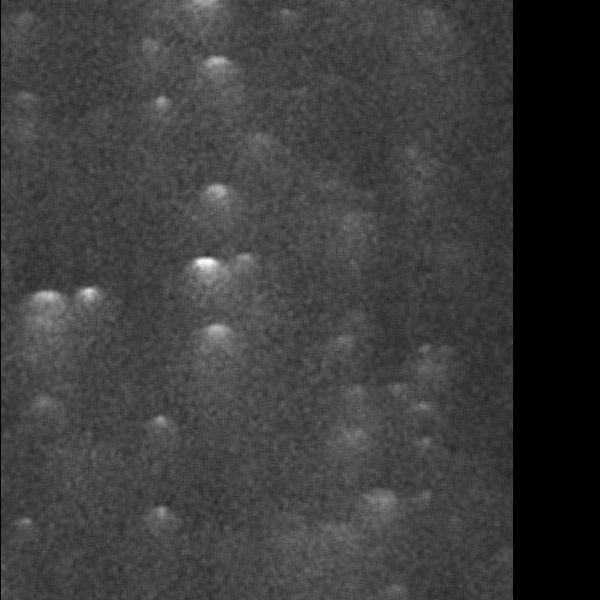spark: (211, 124, 306, 166), (309, 205, 390, 252), (180, 250, 228, 309), (358, 483, 406, 540), (24, 282, 65, 343), (196, 178, 233, 229), (74, 280, 103, 336), (199, 50, 237, 92), (199, 318, 237, 358), (145, 503, 173, 552), (335, 426, 383, 451), (319, 329, 369, 353), (11, 511, 37, 545), (147, 412, 172, 445), (150, 90, 170, 127), (29, 392, 59, 416), (410, 432, 438, 453), (274, 3, 300, 24)
